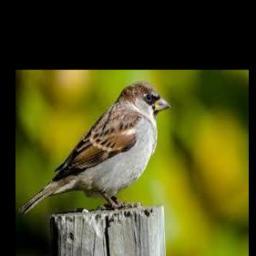Sparrow: (18, 81, 170, 213)
